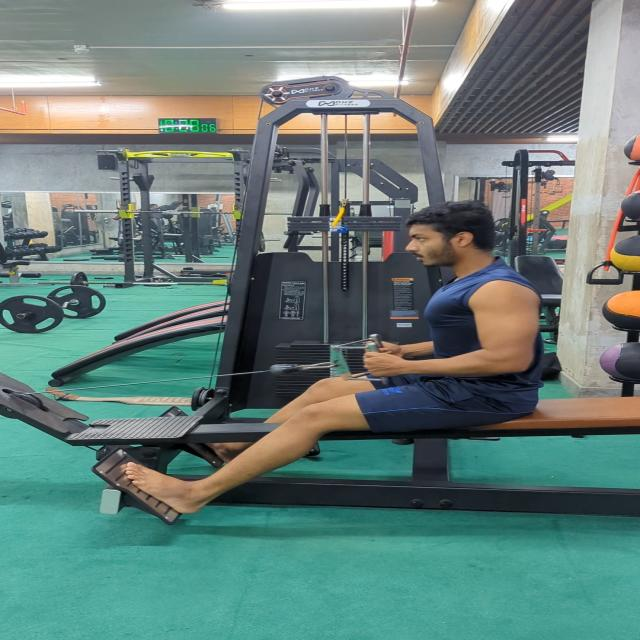Normal_RowingMachineExercise: (120, 199, 550, 517)
